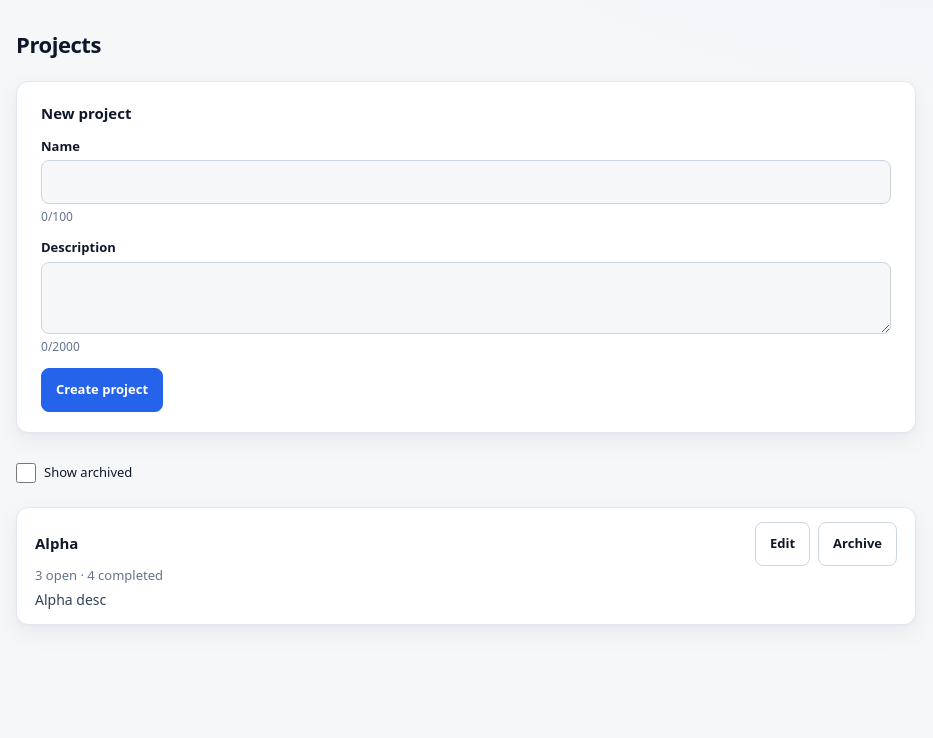
Test: ProjectsPage › rename 409 shows the API message and keeps the form open
Click the button with aria-label "Edit Alpha" at (783, 544), box [755, 522, 810, 566]
(page scrolled)
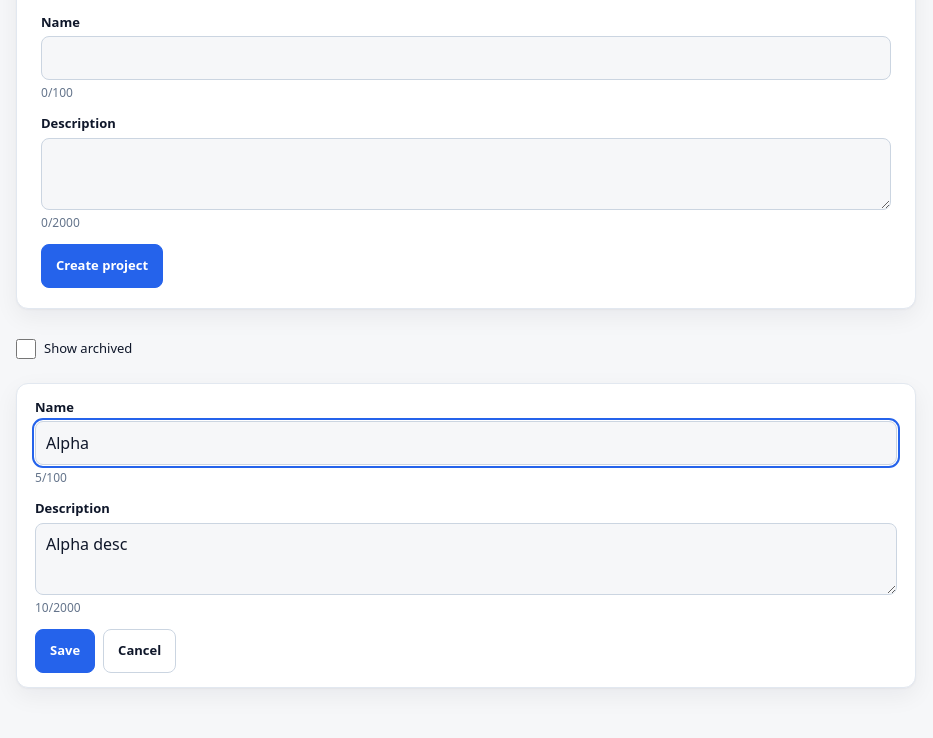
Click the button "Save" at (65, 650), box [35, 628, 95, 672]
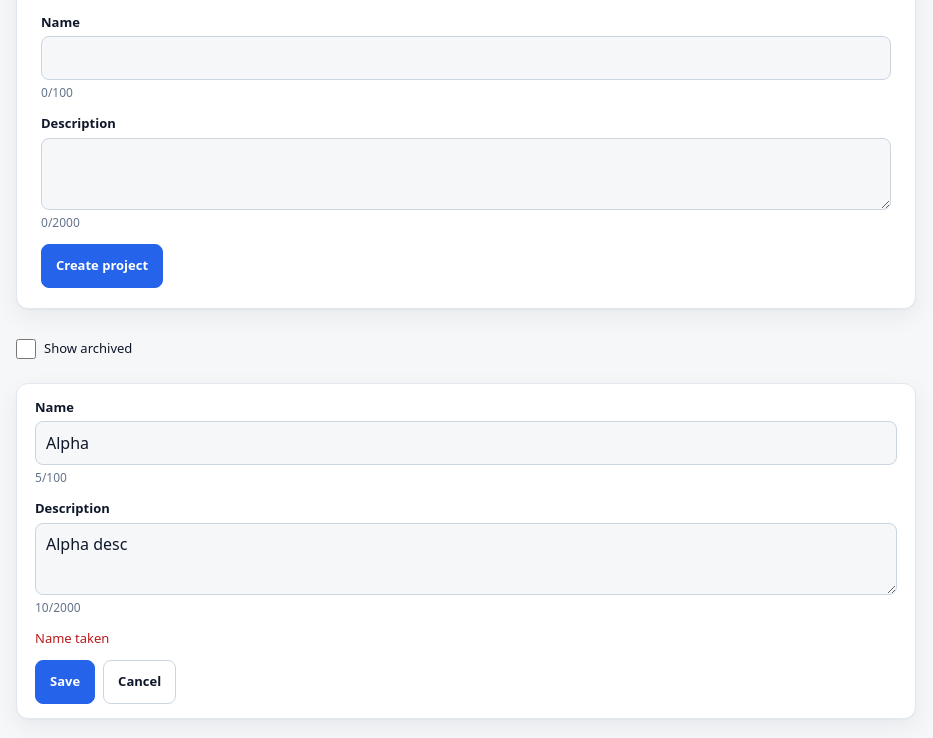
Now the 2nd field labelled "Name" holds "Alpha", box [35, 421, 897, 465]
Now the message reads "Name taken", box [35, 628, 109, 646]
